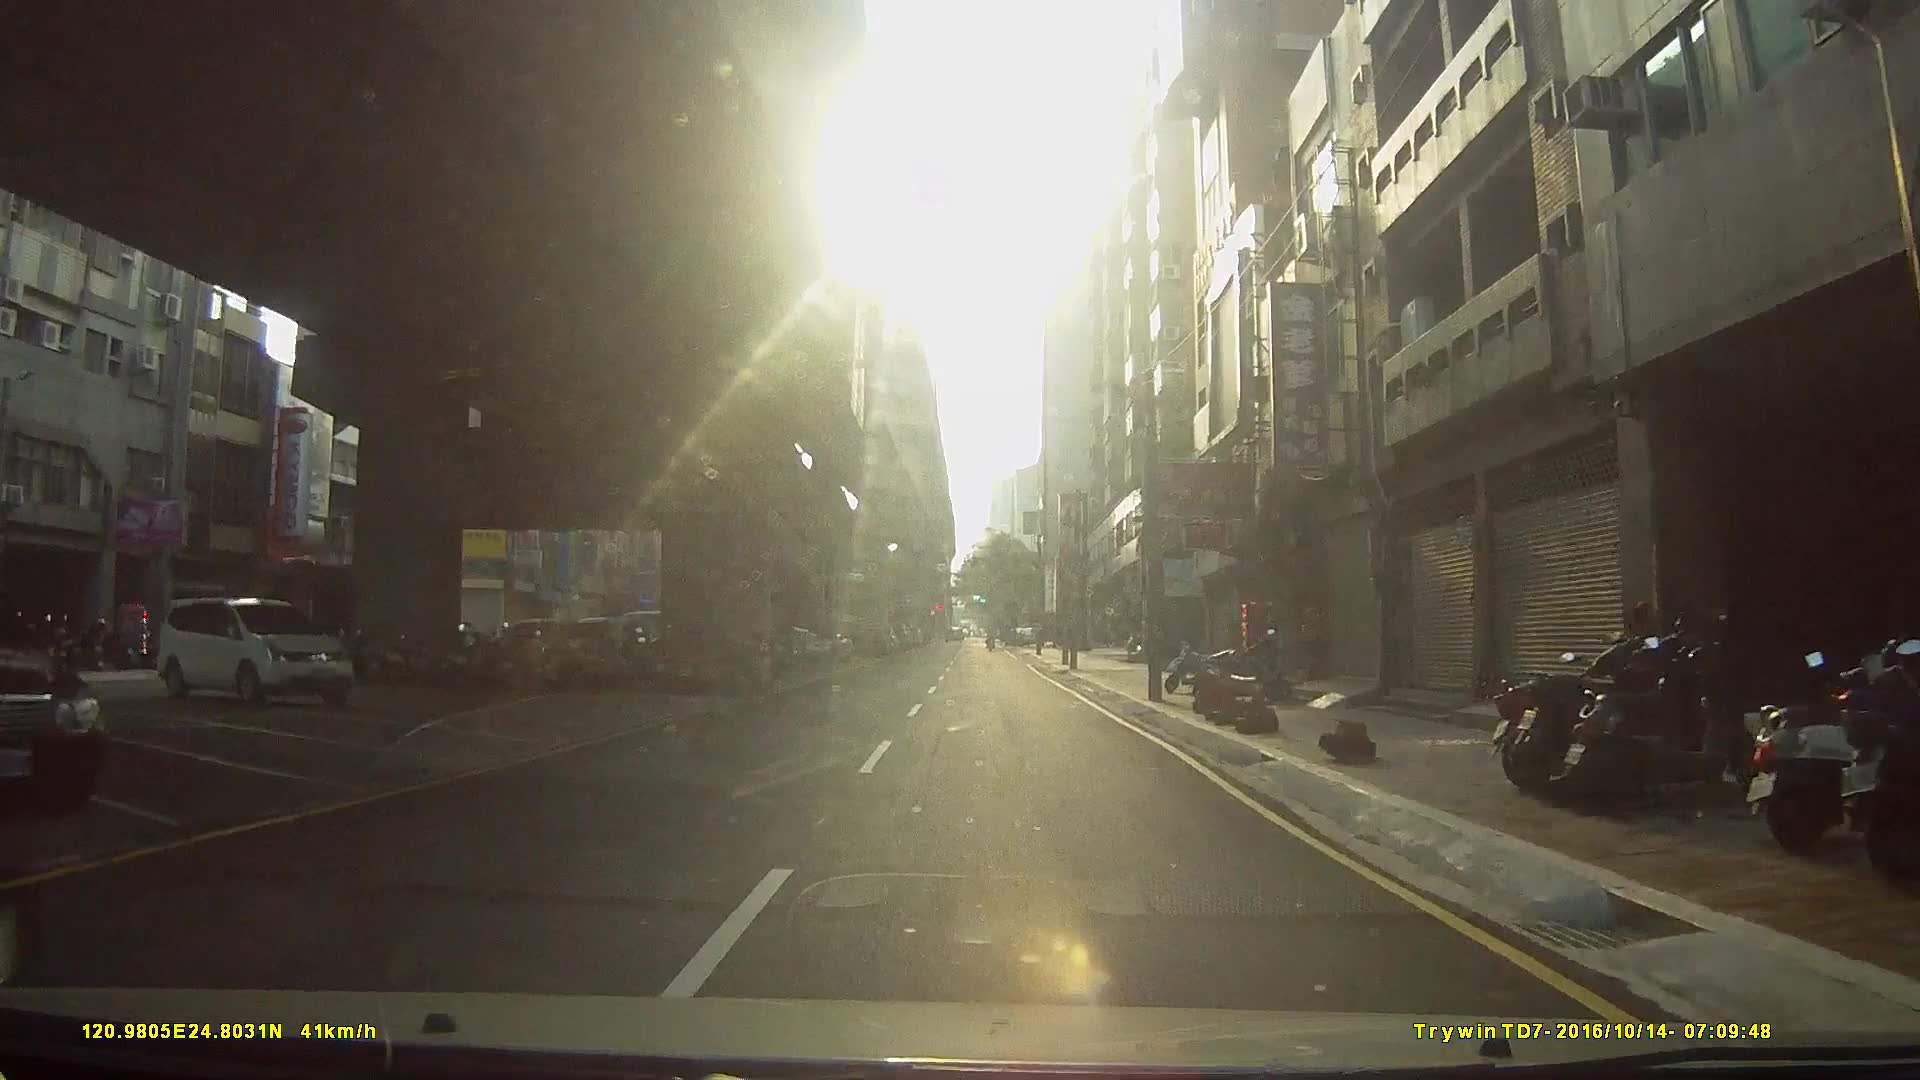vehicle: (0, 591, 105, 822), (154, 595, 353, 707)
